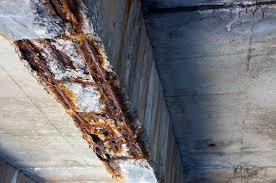spalling: (11, 0, 152, 178)
